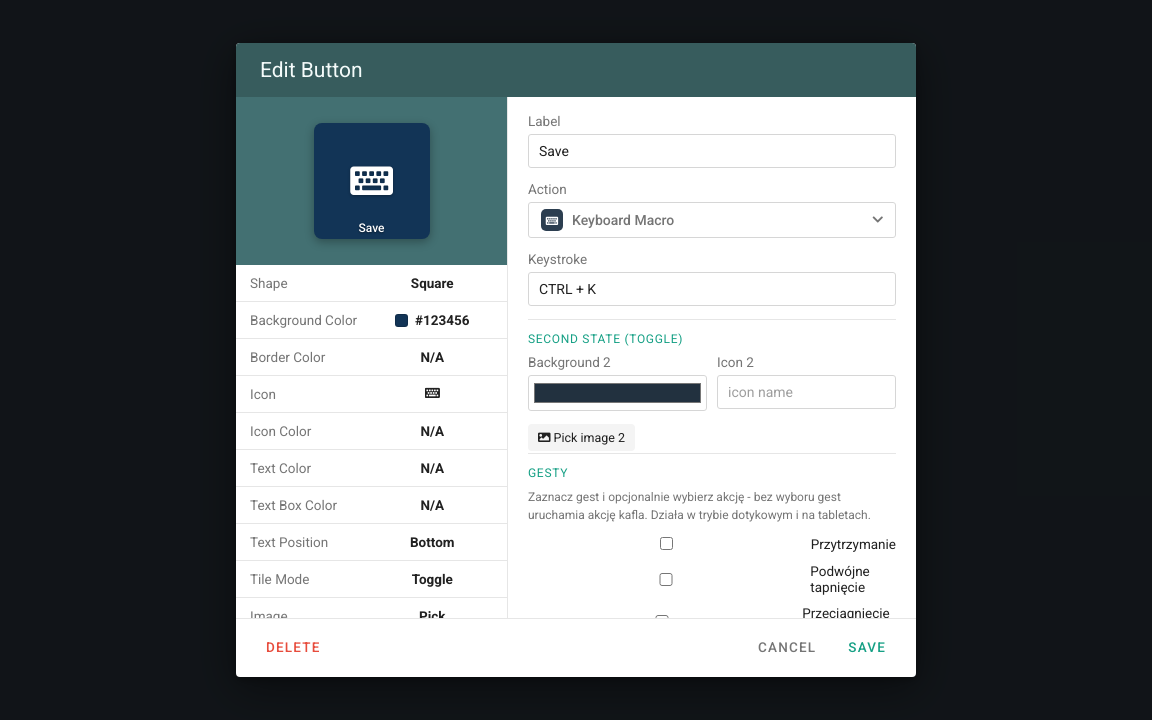
EditTileModal properties and images › shows an image read error under the second-state section
Click the button "Pick image 2" at point(582, 438), box x1=528 y1=424 x2=635 y2=451
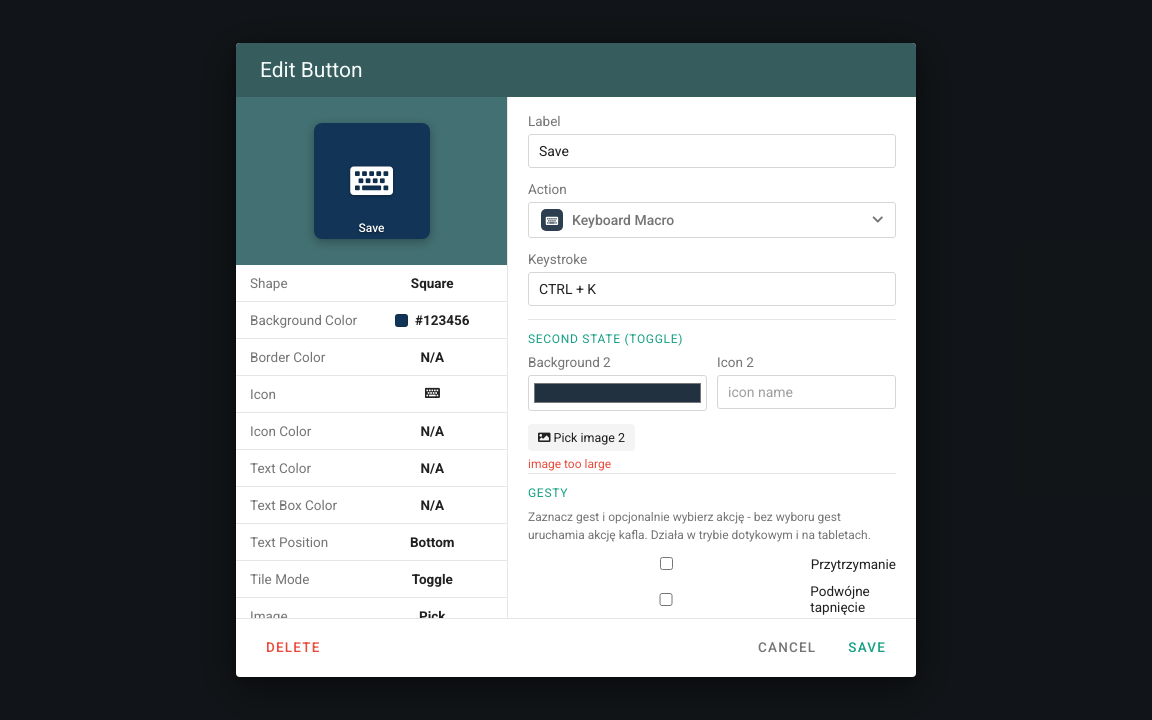
Check: the text with class "dual-error" reads "image too large", box x1=528 y1=457 x2=611 y2=471
